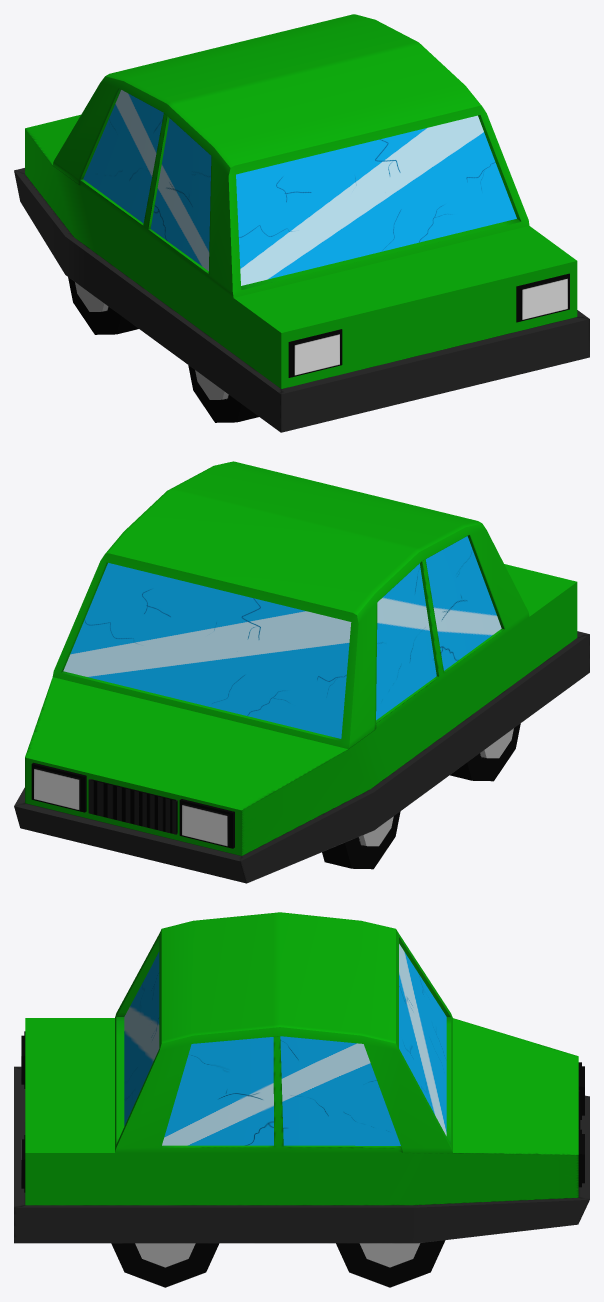
Rendered from greencar.fbx.
3 renders of one model, top to bottom at view 1: azimuth 30°, elevation 25°; view 2: azimuth 150°, elevation 25°; view 3: azimuth 270°, elevation 25°, orthographic. The views are drawn at different scales.
Visible parts, largest first — view 1: polySurface26; view 2: polySurface26; view 3: polySurface26.
Boxes of the visible parts, x1,y1,x2,y2 form: polySurface26: (14,14,589,432); polySurface26: (14,461,589,883); polySurface26: (14,912,589,1287).
Bounding box in the file's own units: 5.41 × 4.55 × 9.35.
Materials: 1 (1 with a texture image).
